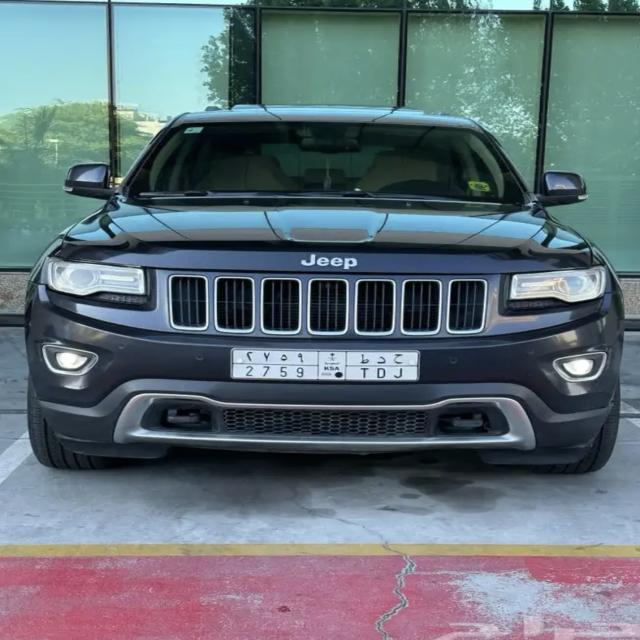license_plate: (228, 346, 427, 386)
